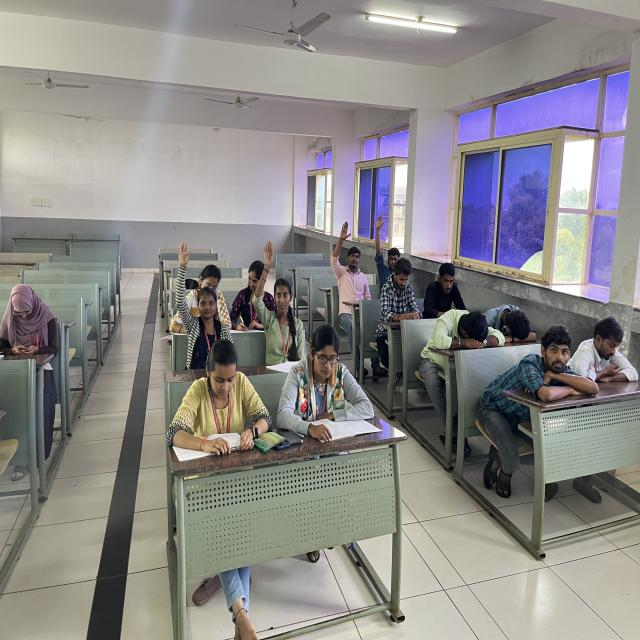Hand Rising: (161, 228, 234, 348), (249, 233, 309, 349), (328, 210, 371, 302), (370, 209, 400, 269)
Reading: (172, 336, 258, 444), (291, 326, 375, 436)
Sleeping: (420, 298, 495, 360)
Using Phone: (3, 287, 62, 404), (489, 279, 537, 344)
Writing: (228, 252, 268, 336)
